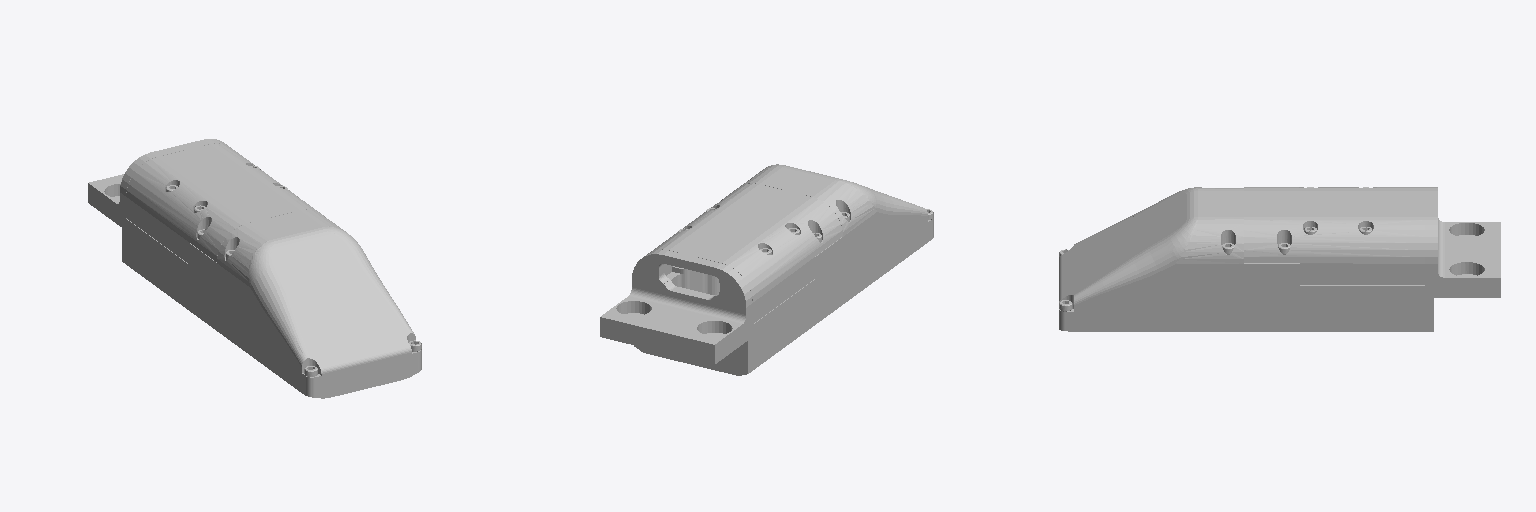
The model's file is gelsight_r15_finger_no_gel_coarse_x16_rot_z.obj.
3 views of the same model, side by side, from view 1: azimuth 30°, elevation 25°; view 2: azimuth 150°, elevation 25°; view 3: azimuth 270°, elevation 25° (orthographic).
Size of the model in its own units: 0.03 by 0.026 by 0.0998.